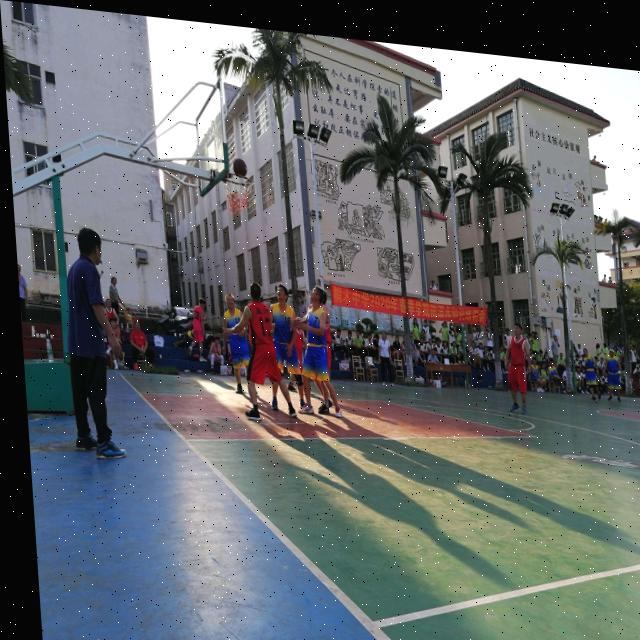basketball: (232, 158, 248, 179)
hoop: (224, 173, 254, 216)
